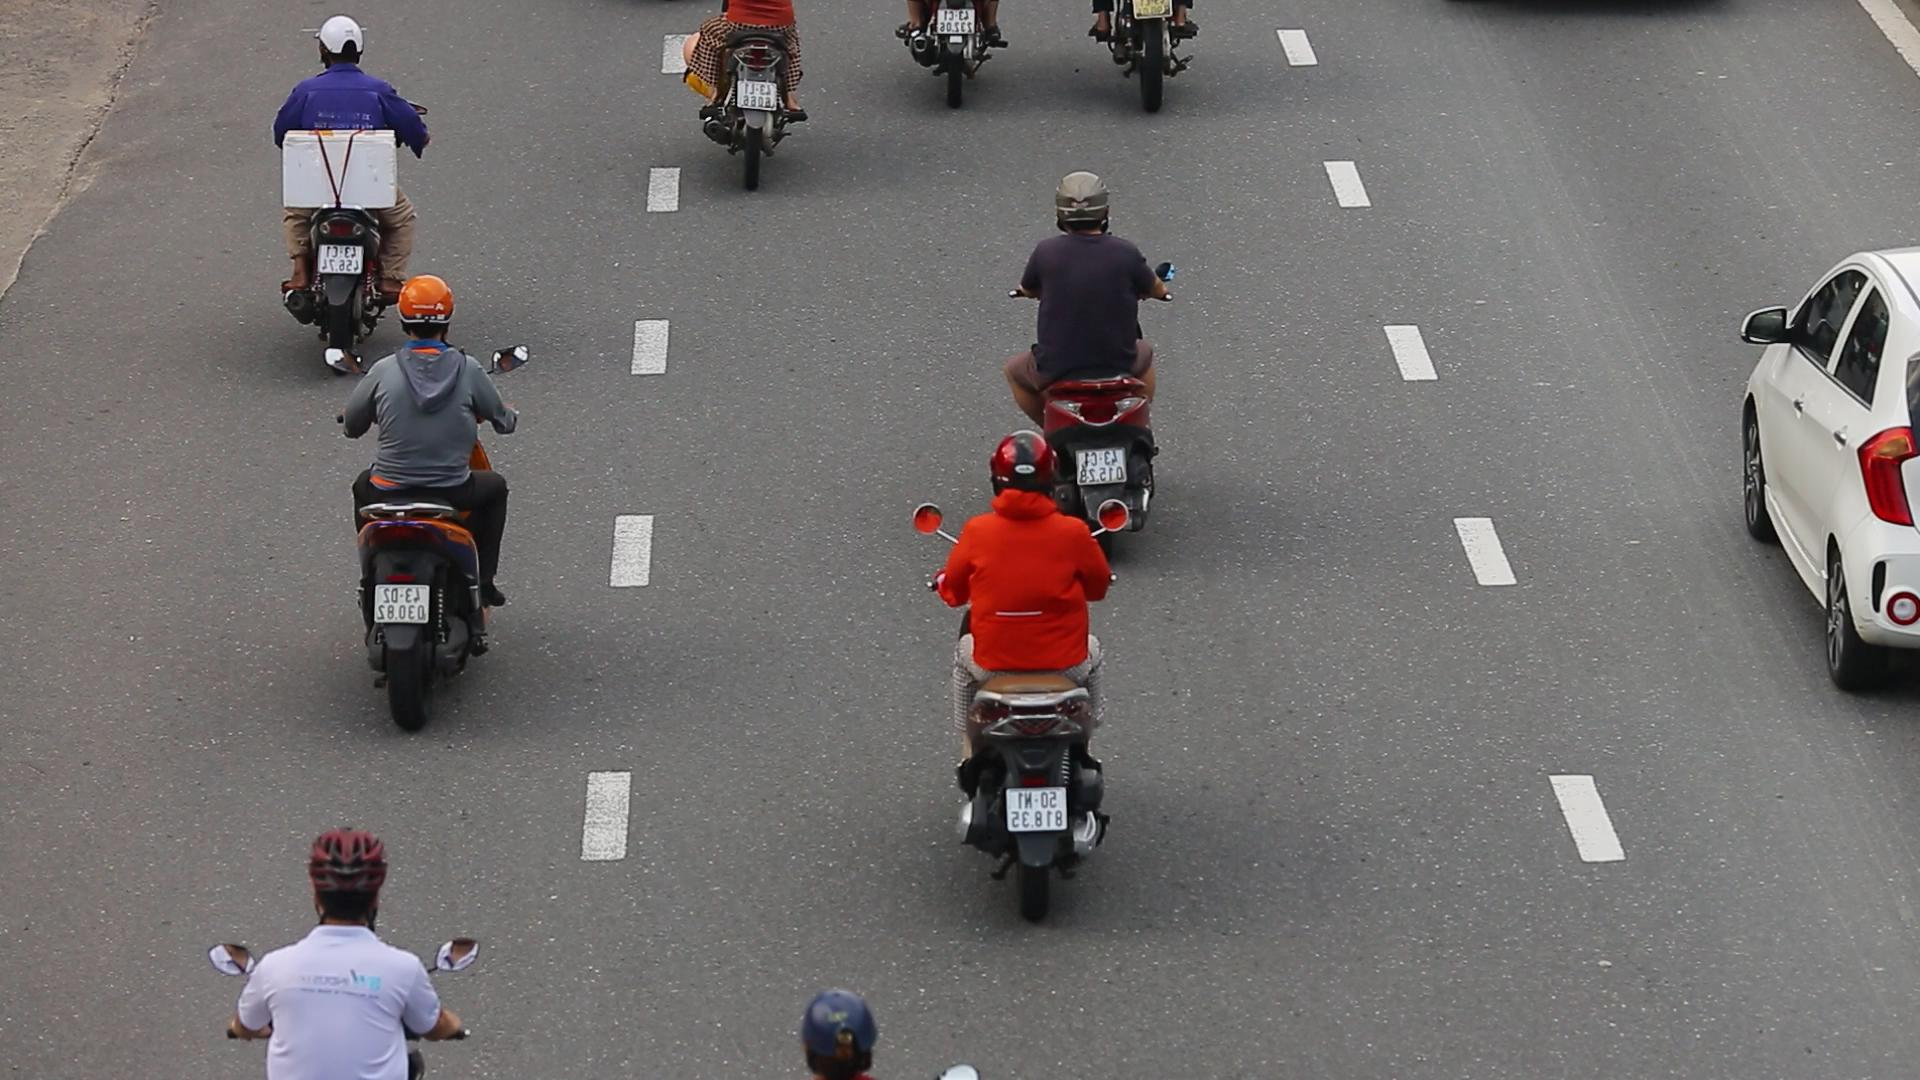motobike: (907, 427, 1126, 926), (331, 273, 531, 738), (237, 0, 418, 349), (1040, 157, 1188, 543)
